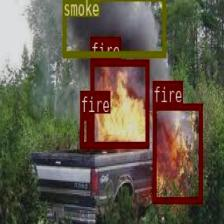fire: (90, 58, 148, 147), (152, 102, 202, 202), (80, 113, 90, 147)
smoke: (61, 0, 164, 57)
